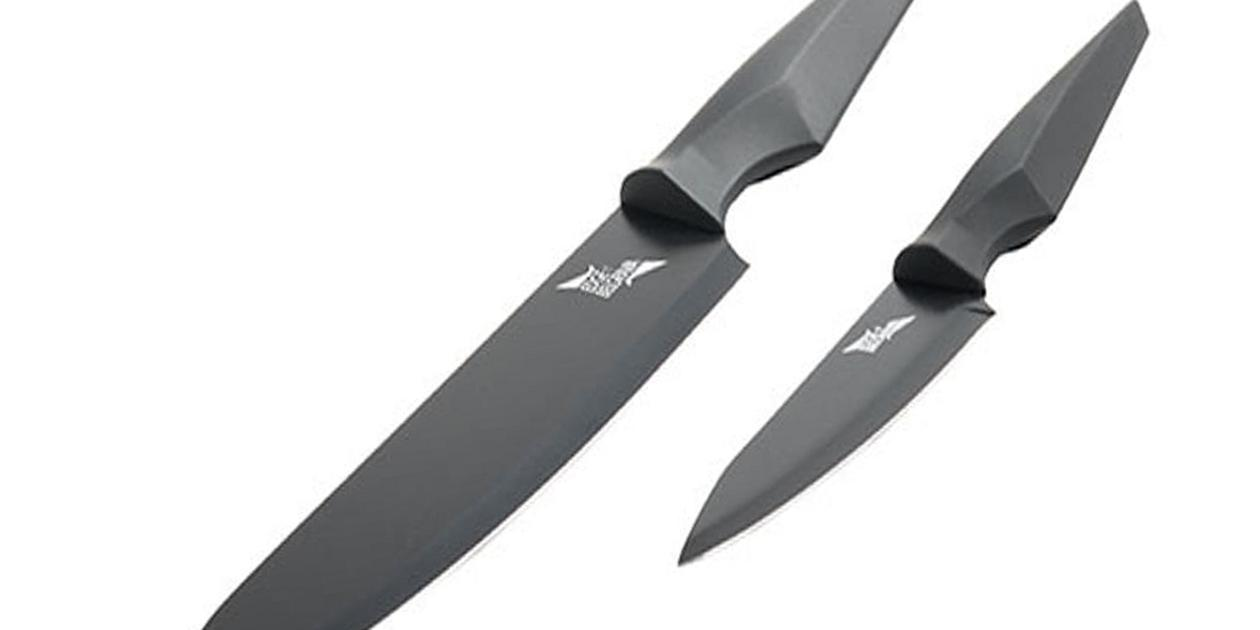knife: (676, 4, 1151, 573)
